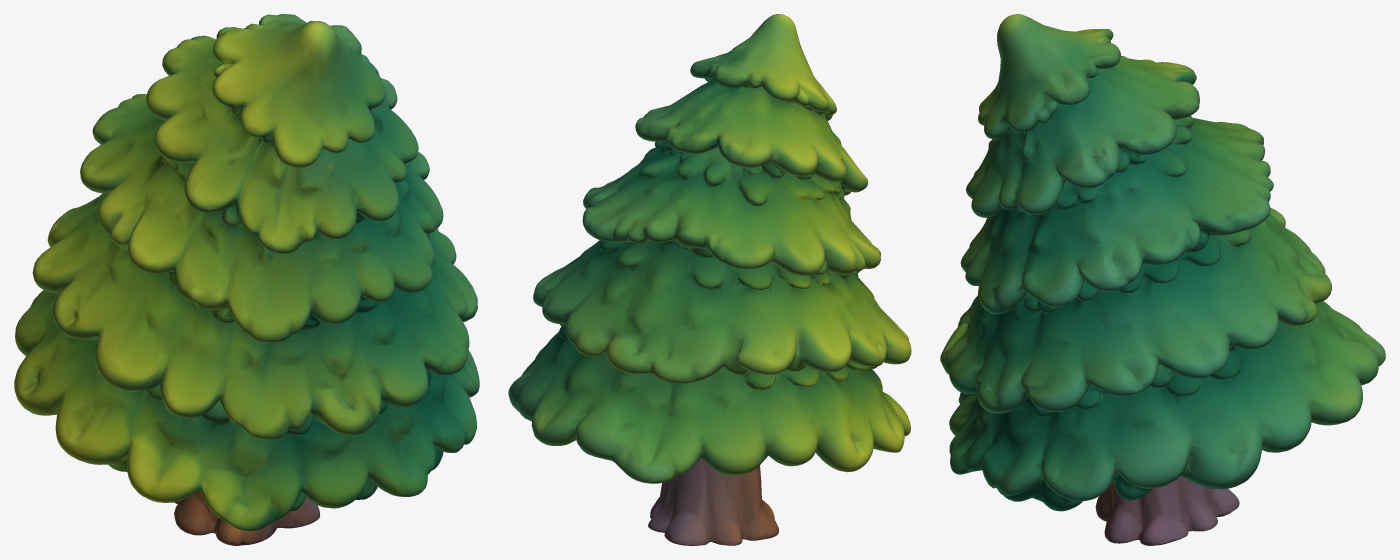
File: cedar_tree.glb
3 views of the same model, side by side, from view 1: azimuth 30°, elevation 25°; view 2: azimuth 150°, elevation 25°; view 3: azimuth 270°, elevation 25° (orthographic). The views are drawn at different scales.
Size of the model in its own units: 2.55 by 3.3 by 2.64.
Materials: 1 (1 with a texture image).
